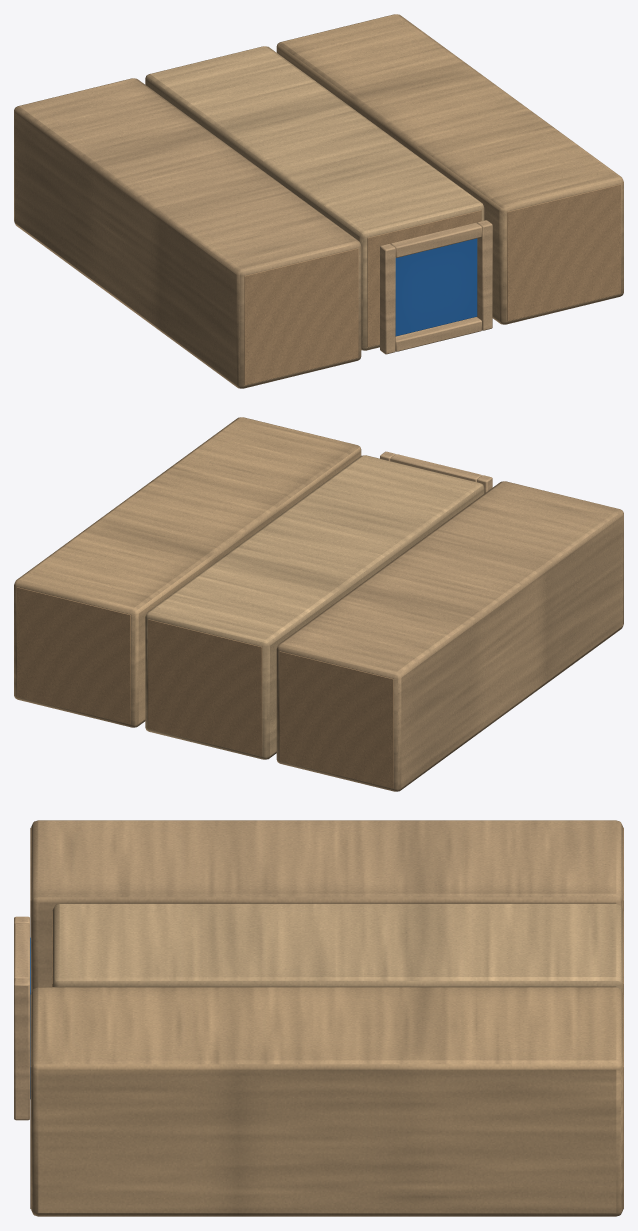
File: 11-crossed-block-layers-5-1.fbx
The picture shows the model from 3 angles, top to bottom: view 1: azimuth 30°, elevation 25°; view 2: azimuth 150°, elevation 25°; view 3: azimuth 270°, elevation 25°; orthographic projection. The views are drawn at different scales.
Parts seen in each view (by area): view 1: crossed-block-layers-5-1; view 2: crossed-block-layers-5-1; view 3: crossed-block-layers-5-1.
Boxes of the visible parts, left/top/right/bottom form: crossed-block-layers-5-1: left=14, top=14, right=623, bottom=388; crossed-block-layers-5-1: left=14, top=417, right=623, bottom=791; crossed-block-layers-5-1: left=14, top=820, right=623, bottom=1216.
Bounding box in the file's own units: 5400 × 1600 × 5668.
1 material, 1 textured.
